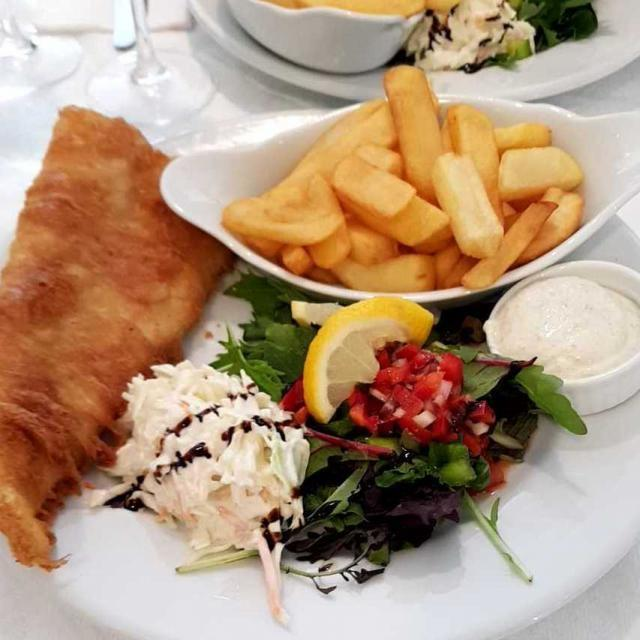celeriac: (96, 351, 301, 596)
chips-french-fries: (228, 72, 583, 288)
fish: (6, 112, 216, 558)
lemon: (304, 297, 431, 419)
salad: (214, 276, 563, 572), (344, 342, 494, 436)
